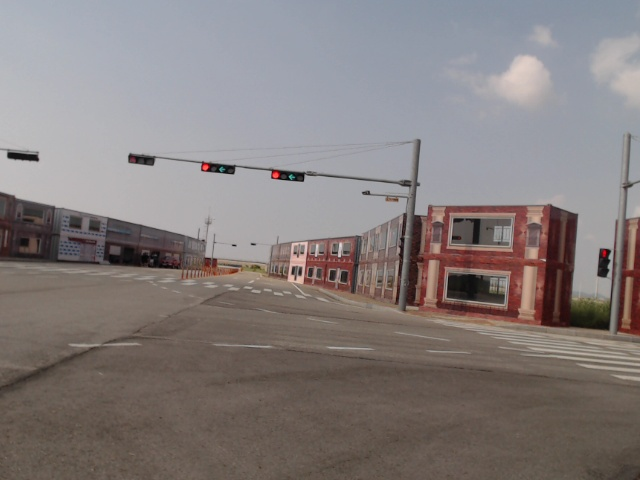left_green_4: (272, 170, 304, 182), (203, 163, 234, 174)
